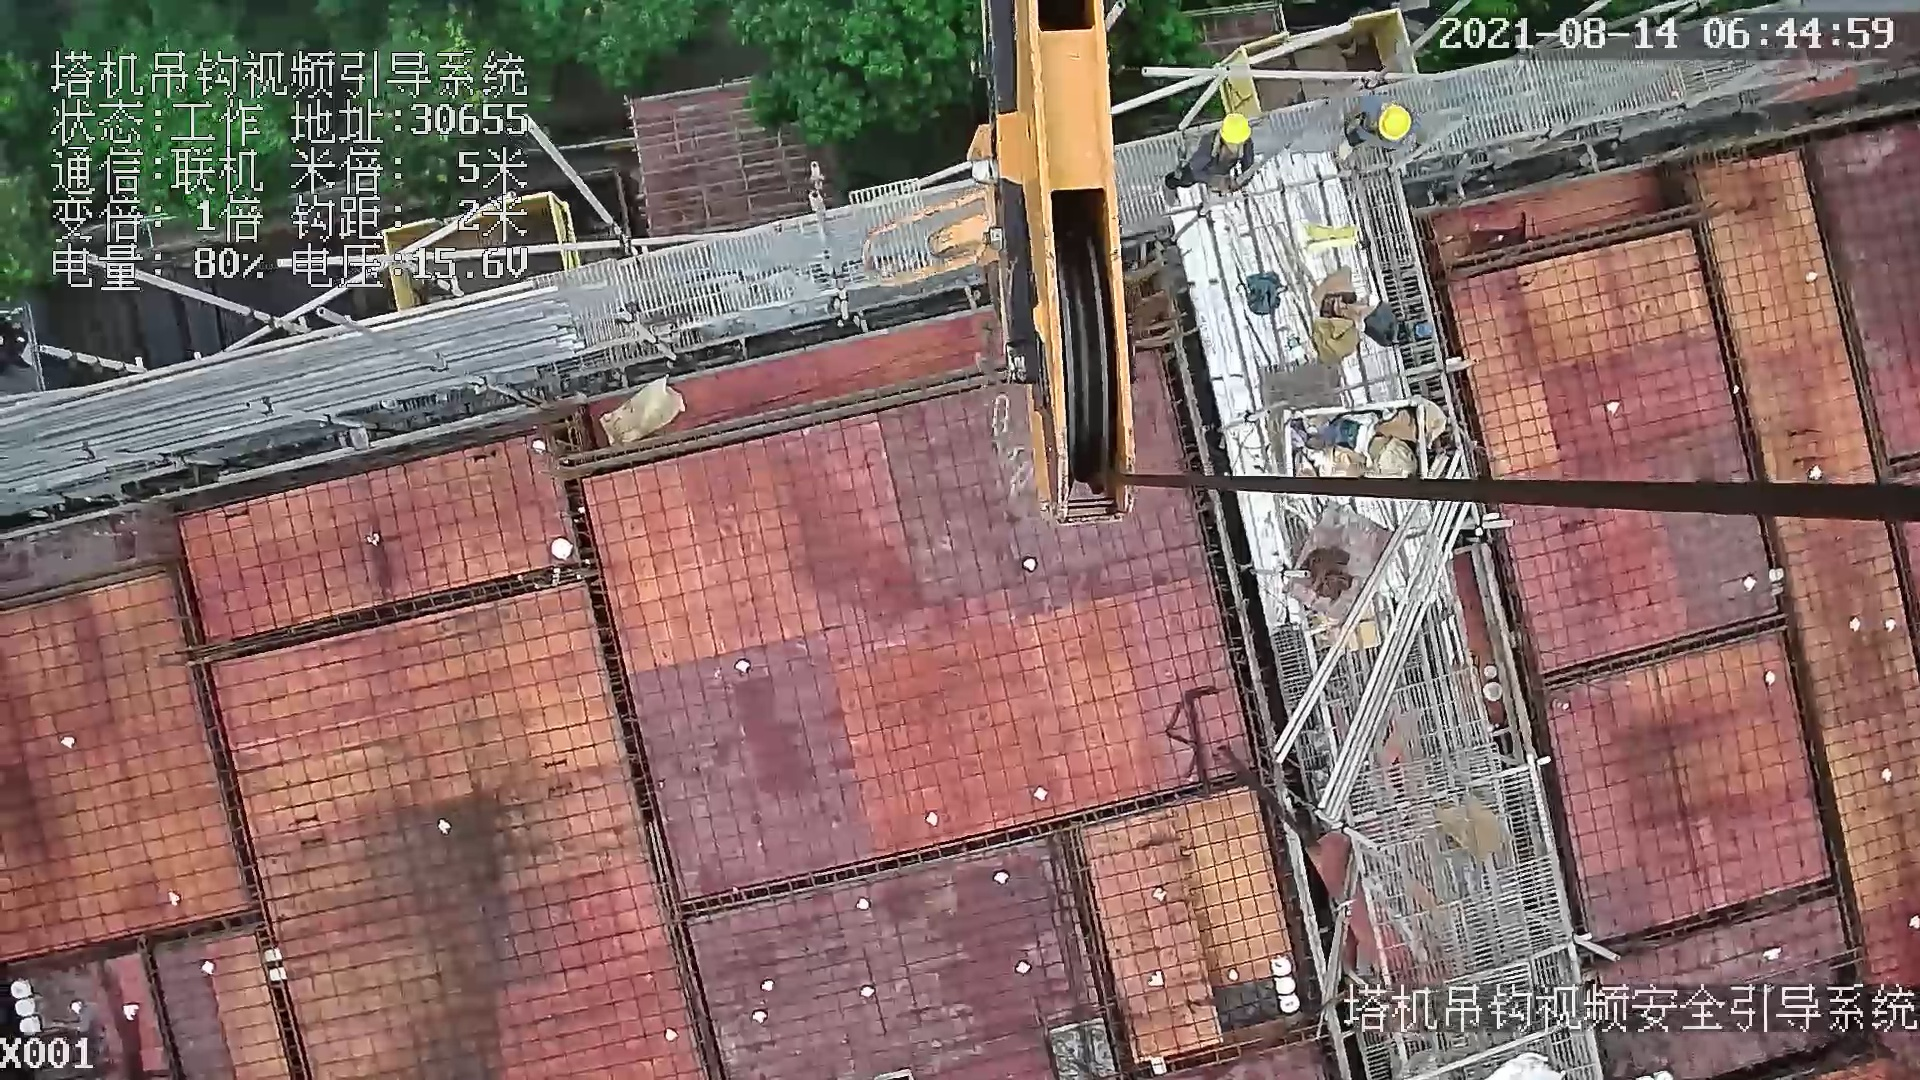helmet: (1377, 105, 1415, 153), (1222, 111, 1249, 142)
hook: (851, 1, 1142, 523)
person: (1177, 112, 1264, 212), (1331, 87, 1423, 174)
